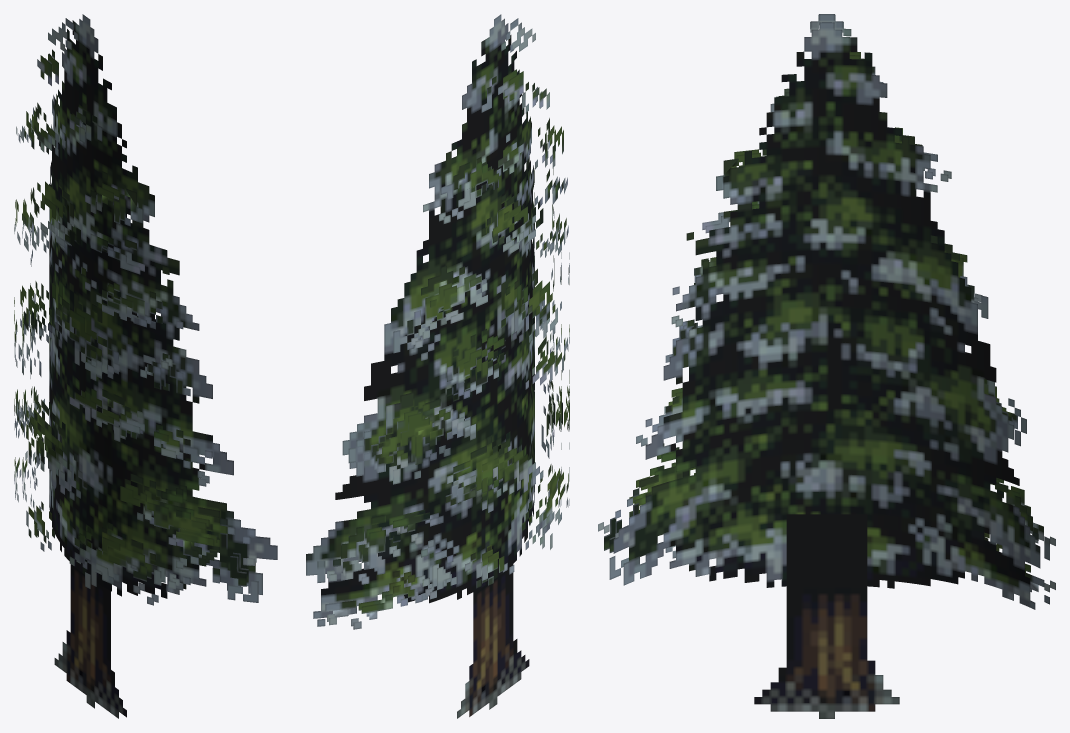
Rendered from ObjMD_Tree_Snow_C.FBX.
3 renders of one model, left to right at view 1: azimuth 30°, elevation 25°; view 2: azimuth 150°, elevation 25°; view 3: azimuth 270°, elevation 25°, orthographic.
Parts seen in each view (by area): view 1: ObjMD_Tree_Snow_C; view 2: ObjMD_Tree_Snow_C; view 3: ObjMD_Tree_Snow_C.
Part boxes in pixels (<box>): ObjMD_Tree_Snow_C: <box>14,14,277,718</box>; ObjMD_Tree_Snow_C: <box>306,14,569,718</box>; ObjMD_Tree_Snow_C: <box>598,14,1055,718</box>.
Bounding box in the file's own units: 104 × 594 × 355.
